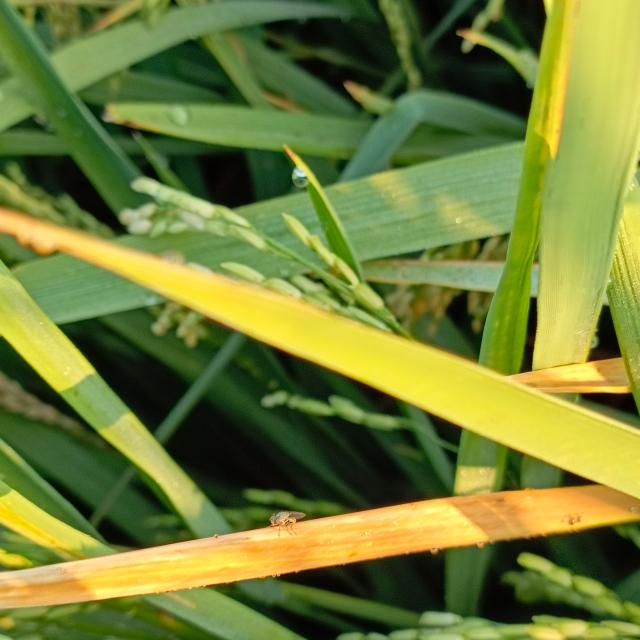Brown spot: (2, 466, 640, 616), (506, 344, 640, 399)
Leaf scald: (265, 502, 310, 540)
